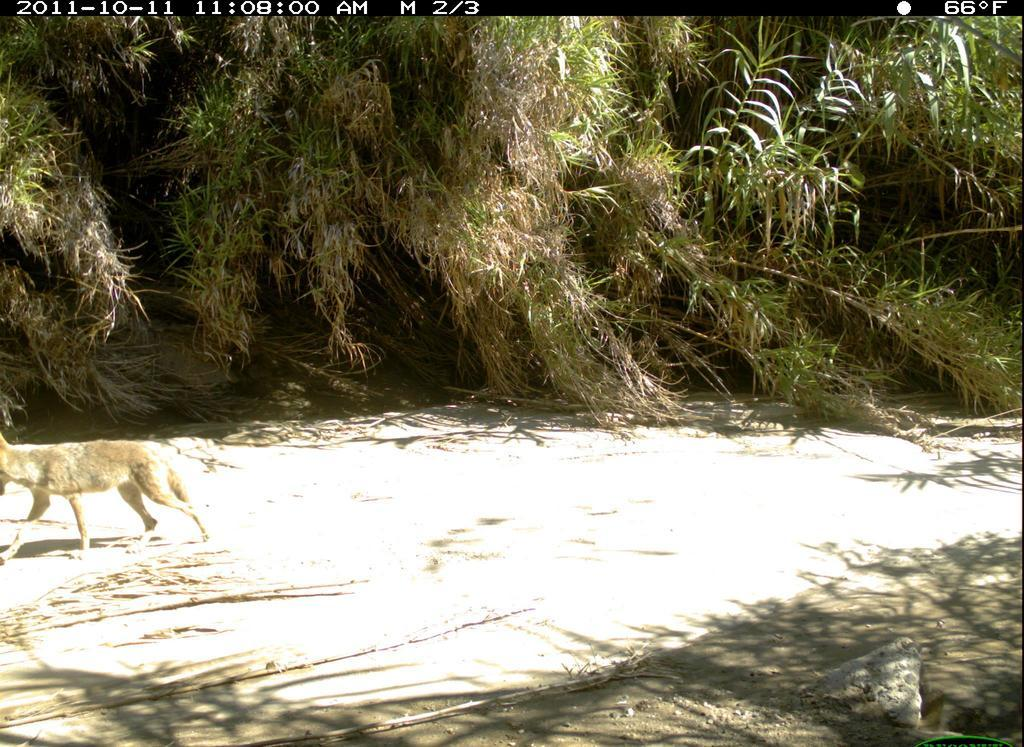coyote: (2, 433, 225, 571)
